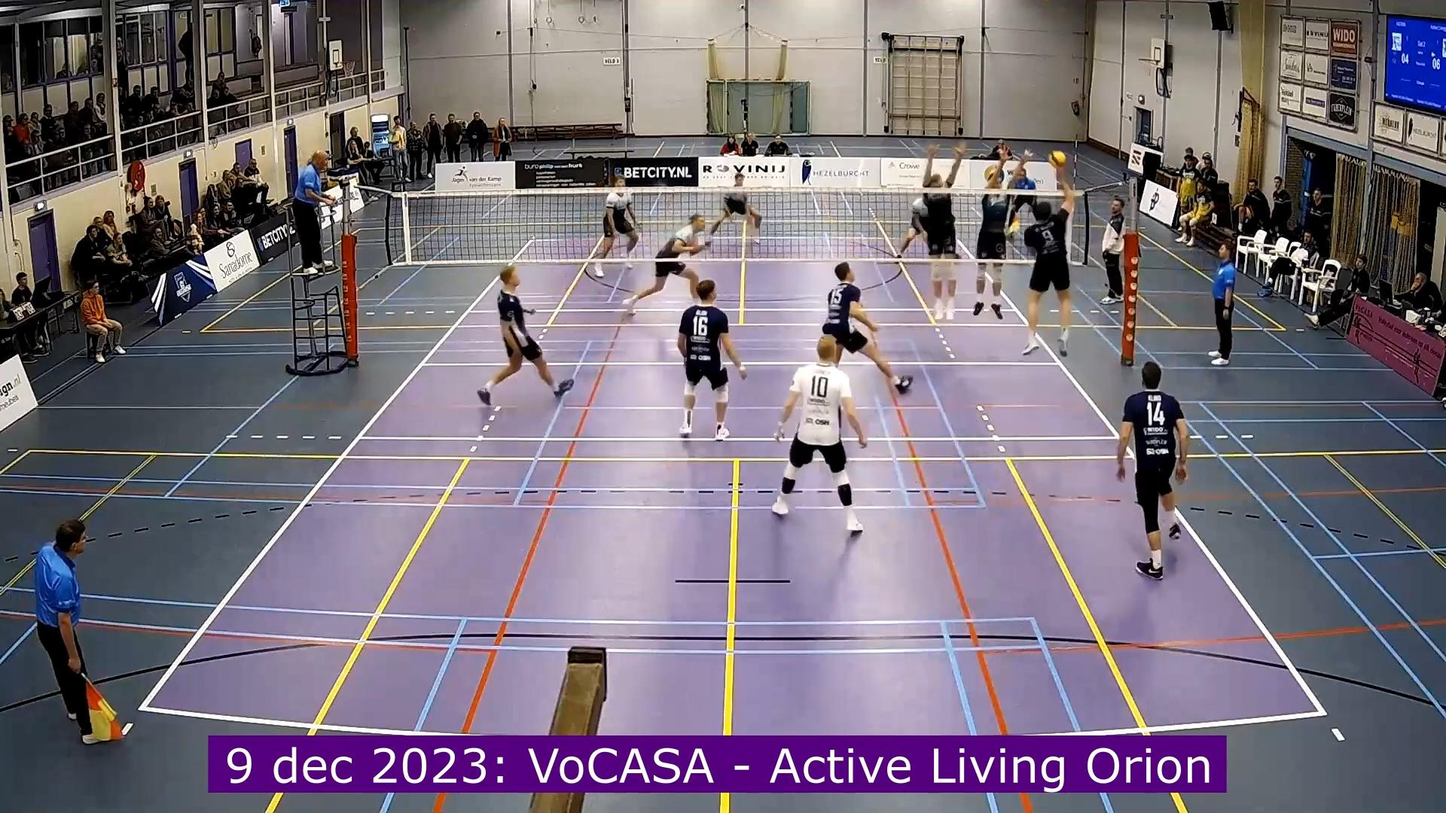Attack: (1010, 172, 1093, 361)
Block: (973, 138, 1032, 327), (914, 137, 963, 325)
Player: (772, 336, 867, 532), (1116, 362, 1188, 579), (477, 265, 573, 405), (822, 263, 912, 393), (677, 279, 746, 440), (625, 215, 705, 315), (597, 177, 639, 269), (709, 172, 761, 238), (895, 195, 926, 257)
ball: (1047, 151, 1069, 165)
